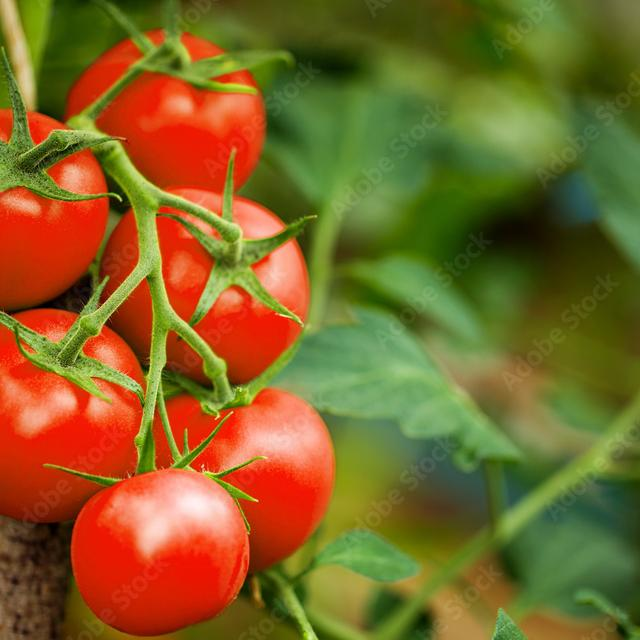tomato: (98, 187, 313, 391), (138, 376, 336, 577), (63, 26, 270, 215), (0, 306, 148, 527), (71, 464, 251, 640), (0, 104, 111, 312)
